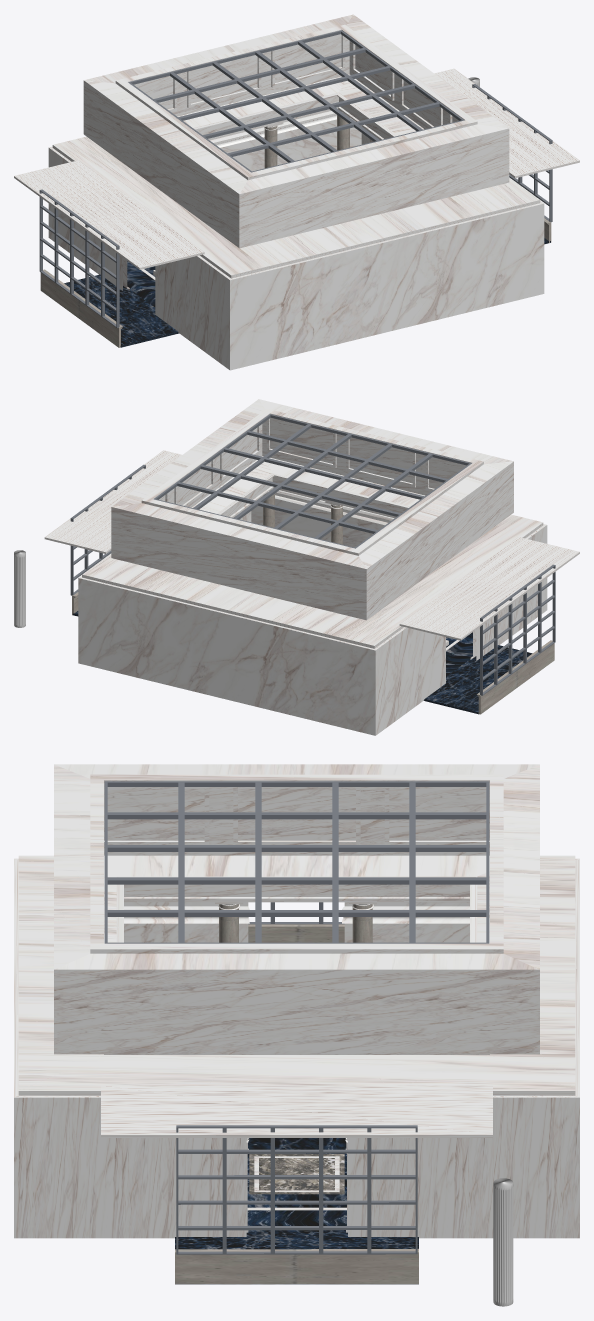
Rendered from Interior_Classical.glb.
3 views of the same model, one above another, from view 1: azimuth 30°, elevation 25°; view 2: azimuth 150°, elevation 25°; view 3: azimuth 270°, elevation 25° (orthographic). The views are drawn at different scales.
Parts seen in each view (by area): view 1: Cube.028, Cube.058, Cube.056, Cube.062, Cube.063, Cube.059, Cube.030, Cube.031, Cube.060, Cube.025; view 2: Cube.028, Cube.058, Cube.056, Cube.062, Cube.063, Cube.059, Cube.030, Cube.031, Cylinder, Cube.060, Cube.025; view 3: Cube.028, Cube.058, Cube.063, Cube.056, Cube.060, Cube.061, Cube.029, Cube.009, Cylinder, Cube.007, Cube.031, Cube.025.
Part boxes in pixels (x1,y1,x2,y2): Cube.028: (52,14,540,278); Cube.058: (48,111,544,370); Cube.056: (128,30,464,172); Cube.062: (14,160,204,269); Cube.063: (434,68,579,178); Cube.059: (39,189,119,327); Cube.030: (64,274,178,347); Cube.031: (40,269,122,347); Cube.060: (472,84,552,222); Cube.025: (127,261,155,307); Cube.028: (82,399,543,648); Cube.058: (78,490,547,735); Cube.056: (154,414,471,548); Cube.062: (399,537,579,640); Cube.063: (44,450,181,553); Cube.059: (480,564,555,695); Cube.030: (424,645,532,714); Cube.031: (476,640,554,714); Cylinder: (14,550,25,627); Cube.060: (70,464,145,595); Cube.025: (446,632,472,676); Cube.028: (18,764,575,1095); Cube.058: (14,858,579,1238); Cube.063: (101,1085,492,1137); Cube.056: (104,781,489,943); Cube.060: (176,1125,417,1254); Cube.061: (175,1249,418,1283); Cube.029: (175,1231,418,1284); Cube.009: (249,1154,344,1194); Cylinder: (493,1178,513,1306); Cube.007: (247,1138,346,1207); Cube.031: (248,924,344,942); Cube.025: (247,1210,346,1231).
Size of the model in its own units: 84.98 by 28.74 by 57.02.
Materials: 13 (9 with a texture image).
